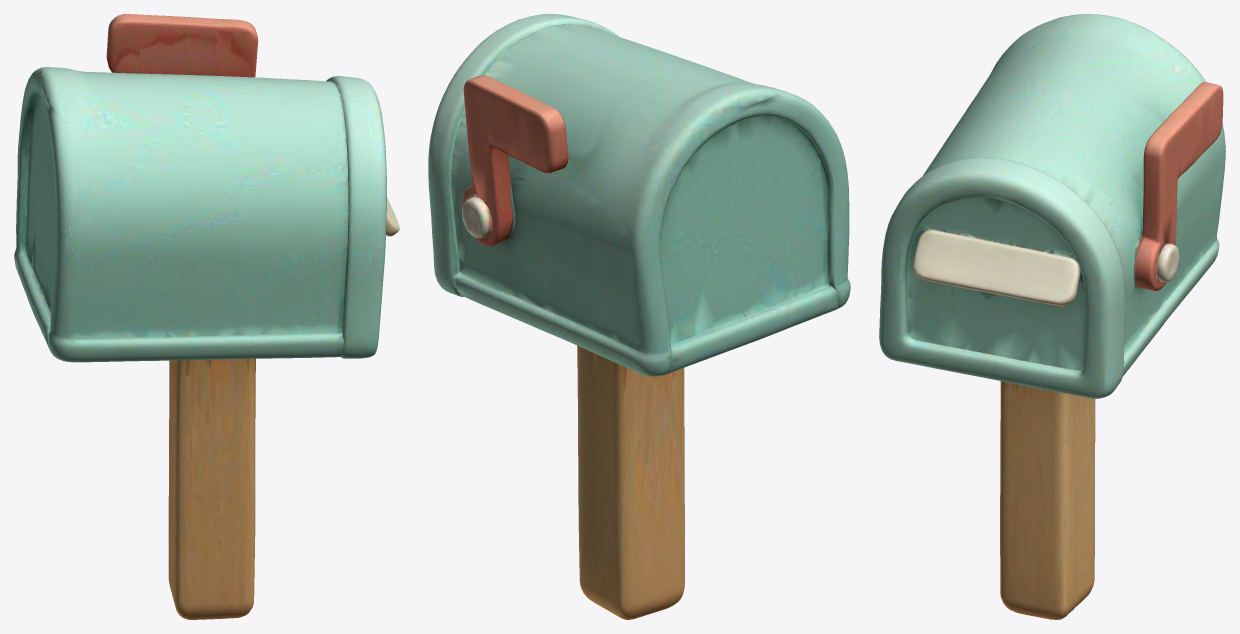
3 views of the same model, side by side, from view 1: azimuth 30°, elevation 25°; view 2: azimuth 150°, elevation 25°; view 3: azimuth 270°, elevation 25° (orthographic). The views are drawn at different scales.
Visible parts, largest first — view 1: P02-vintage-mailbox; view 2: P02-vintage-mailbox; view 3: P02-vintage-mailbox.
Part boxes in pixels (x1,y1,x2,y2): P02-vintage-mailbox: [14, 14, 399, 619]; P02-vintage-mailbox: [428, 14, 850, 619]; P02-vintage-mailbox: [879, 14, 1225, 619].
Bounding box in the file's own units: 0.9165 × 1.35 × 0.8.
1 material, 1 textured.
